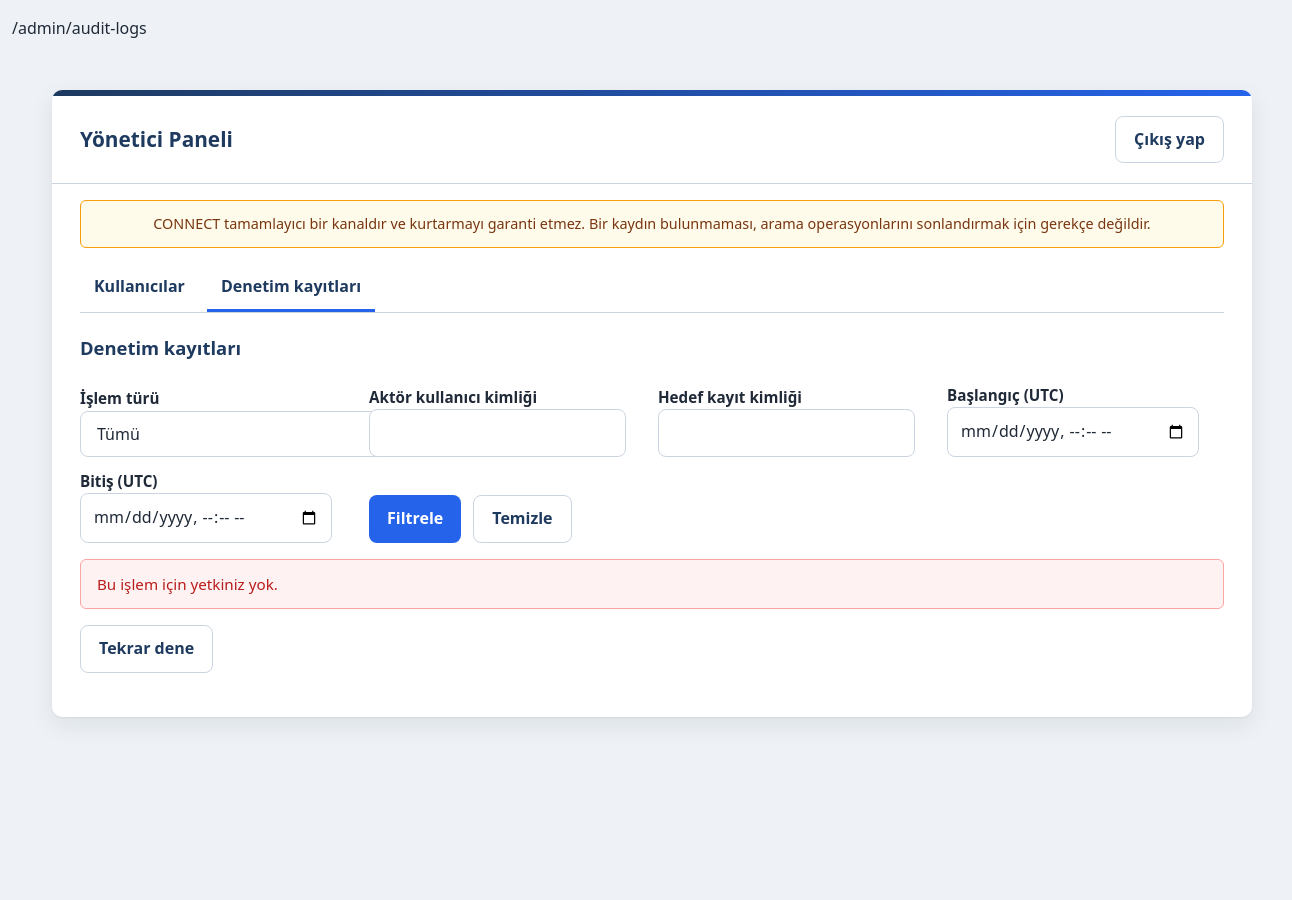
Test: AuditLogPage › shows an error alert with retry
Expected: the message reads "Bu işlem için yetkiniz yok.", [97,574,278,594]
Click the button "Tekrar dene": (147, 649) [80,625,213,673]
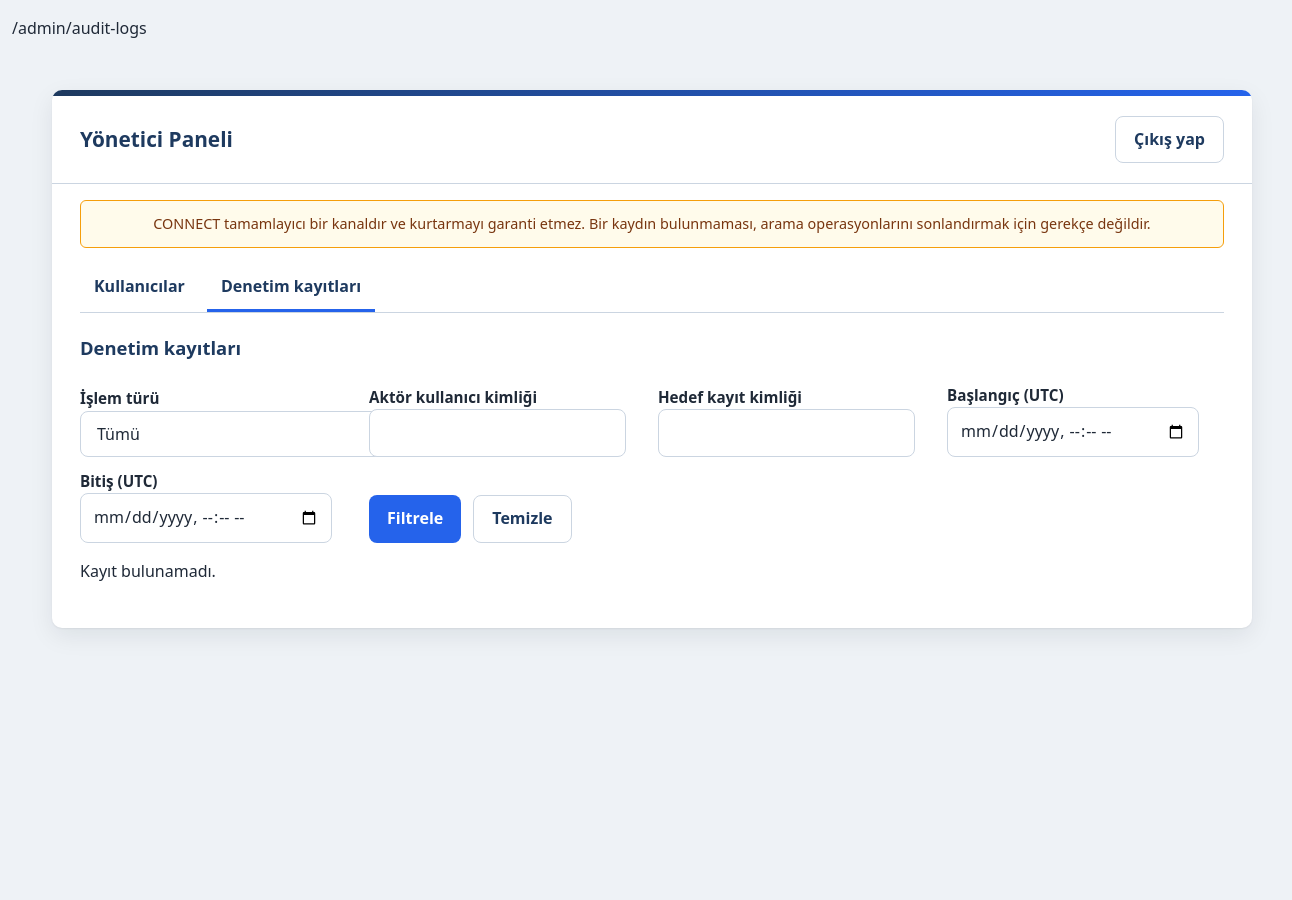
Now the text "Kayıt bulunamadı." is shown, box [80,560,216,582]
